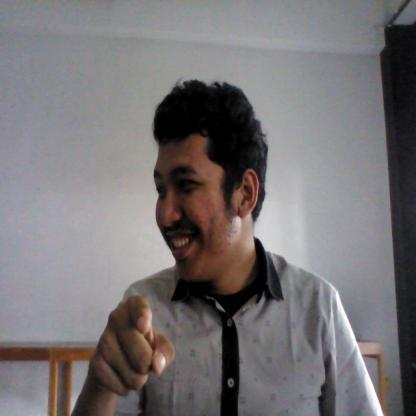Kamu: (78, 292, 193, 401)
